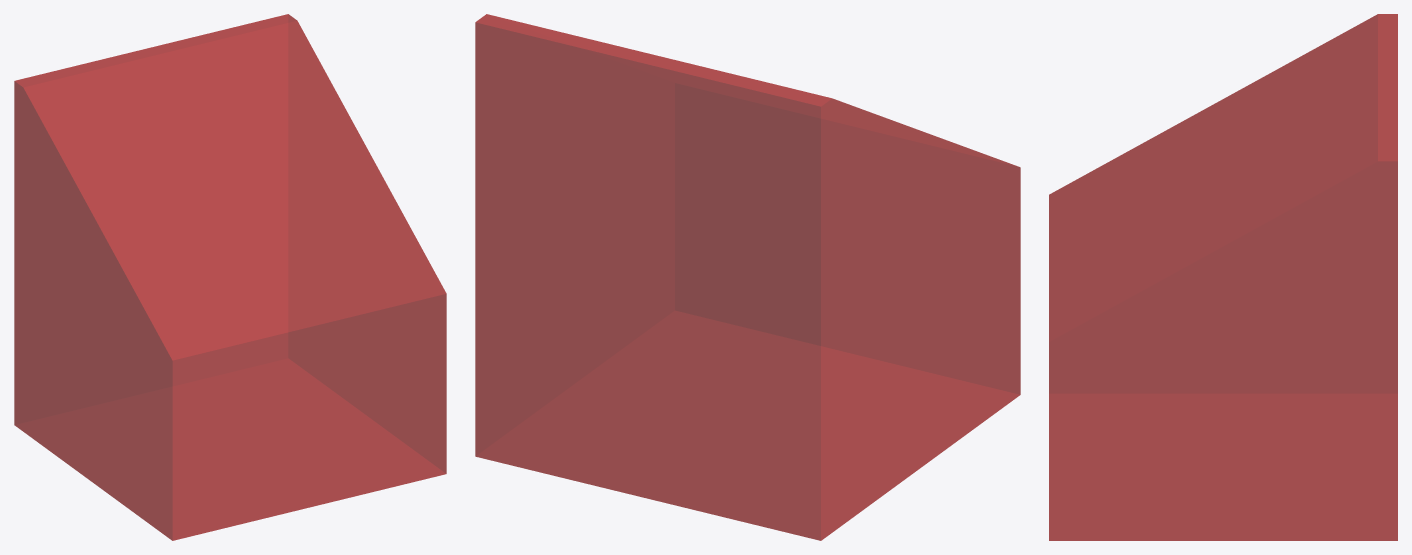
File: SM_Bld_Stairs_03_Collision.fbx
The picture shows the model from 3 angles, left to right: view 1: azimuth 30°, elevation 25°; view 2: azimuth 150°, elevation 25°; view 3: azimuth 270°, elevation 25°; orthographic projection. The views are drawn at different scales.
Parts seen in each view (by area): view 1: SM_Bld_Stairs_03_Collision; view 2: SM_Bld_Stairs_03_Collision; view 3: SM_Bld_Stairs_03_Collision.
Part boxes in pixels (box(x1,y1,x2,y2)): SM_Bld_Stairs_03_Collision: box(14, 14, 446, 540); SM_Bld_Stairs_03_Collision: box(475, 14, 1020, 540); SM_Bld_Stairs_03_Collision: box(1049, 14, 1397, 540).
Bounding box in the file's own units: 250 × 300 × 250.
